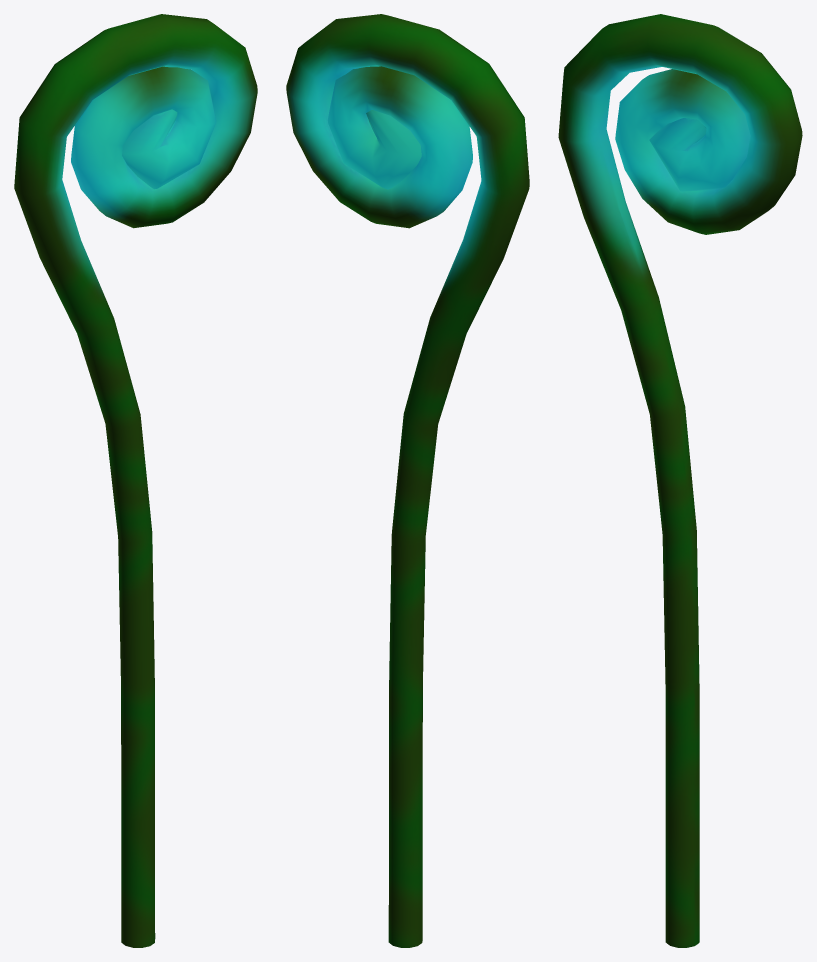
The model's file is MagicPlant.fbx.
The picture shows the model from 3 angles, left to right: view 1: azimuth 30°, elevation 25°; view 2: azimuth 150°, elevation 25°; view 3: azimuth 330°, elevation 25°; orthographic projection.
Visible parts, largest first — view 1: NurbsPath.012; view 2: NurbsPath.012; view 3: NurbsPath.012.
Boxes of the visible parts, x1,y1,x2,y2 form: NurbsPath.012: (14, 14, 257, 947); NurbsPath.012: (286, 14, 529, 947); NurbsPath.012: (558, 14, 802, 947).
Size of the model in its own units: 472 by 1747 by 116.
